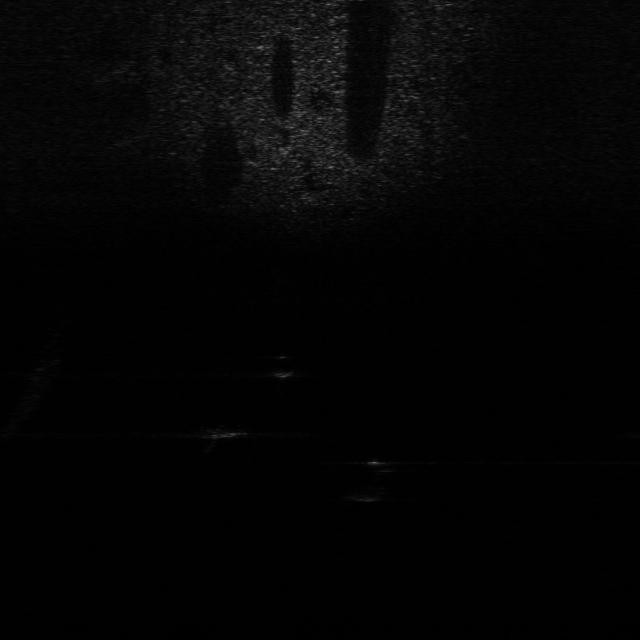ball: (267, 350, 301, 380)
square cage: (200, 418, 264, 442)
tyre: (342, 453, 411, 505)
